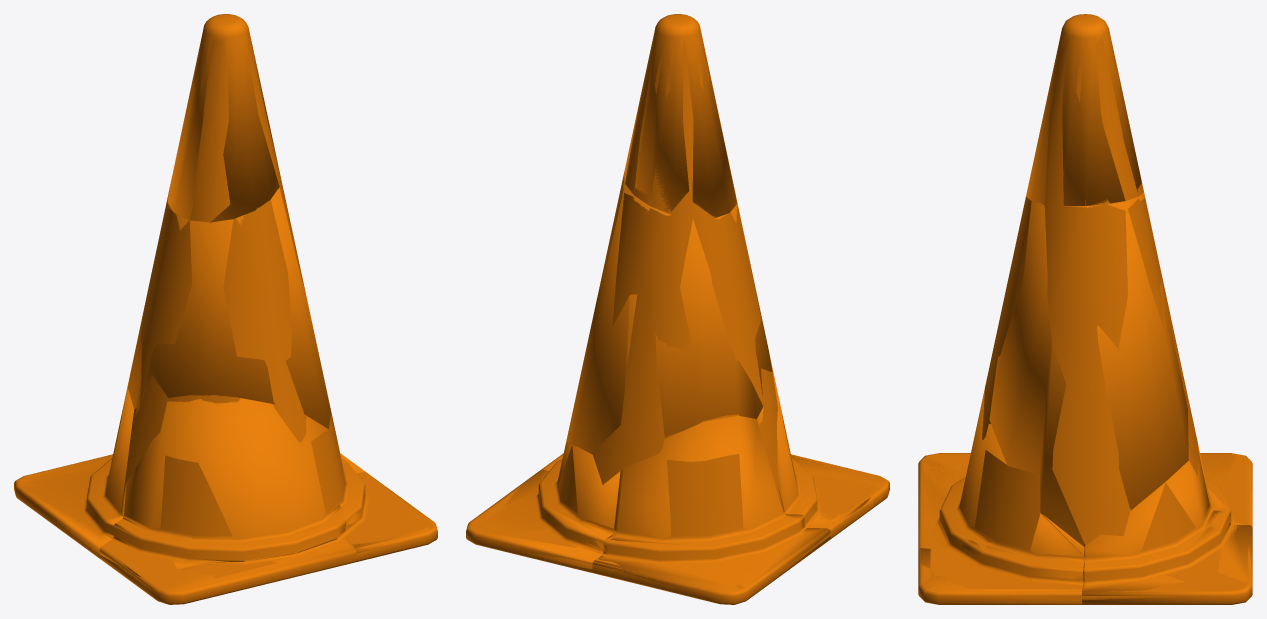
Rendered from cone-fractured.fbx.
3 views of the same model, side by side, from view 1: azimuth 30°, elevation 25°; view 2: azimuth 150°, elevation 25°; view 3: azimuth 270°, elevation 25° (orthographic). The views are drawn at different scales.
Parts seen in each view (by area): view 1: cone, cone_cell.006, cone_cell, cone_cell.001, cone_cell.002, cone_cell.005, cone_cell.003; view 2: cone, cone_cell.002, cone_cell, cone_cell.001, cone_cell.004, cone_cell.006, cone_cell.005; view 3: cone, cone_cell, cone_cell.004, cone_cell.001, cone_cell.003, cone_cell.006, cone_cell.005, cone_cell.002.
Boxes of the visible parts, x1=… form: cone: x1=14, y1=15, x2=437, y2=604; cone_cell.006: x1=99, y1=398, x2=346, y2=577; cone_cell: x1=128, y1=188, x2=337, y2=440; cone_cell.001: x1=167, y1=14, x2=279, y2=222; cone_cell.002: x1=14, y1=372, x2=133, y2=557; cone_cell.005: x1=100, y1=537, x2=356, y2=604; cone_cell.003: x1=339, y1=448, x2=433, y2=558; cone: x1=466, y1=17, x2=889, y2=604; cone_cell.002: x1=592, y1=415, x2=830, y2=602; cone_cell: x1=566, y1=174, x2=772, y2=453; cone_cell.001: x1=624, y1=14, x2=736, y2=217; cone_cell.004: x1=466, y1=443, x2=620, y2=571; cone_cell.006: x1=757, y1=352, x2=870, y2=528; cone_cell.005: x1=791, y1=455, x2=887, y2=539; cone: x1=918, y1=15, x2=1252, y2=604; cone_cell: x1=986, y1=192, x2=1188, y2=546; cone_cell.004: x1=1082, y1=449, x2=1252, y2=604; cone_cell.001: x1=1026, y1=14, x2=1141, y2=205; cone_cell.003: x1=918, y1=513, x2=1084, y2=604; cone_cell.006: x1=939, y1=388, x2=1006, y2=547; cone_cell.005: x1=918, y1=453, x2=965, y2=549; cone_cell.002: x1=1198, y1=444, x2=1252, y2=527.
Size of the model in its own units: 800 by 1362 by 800.
